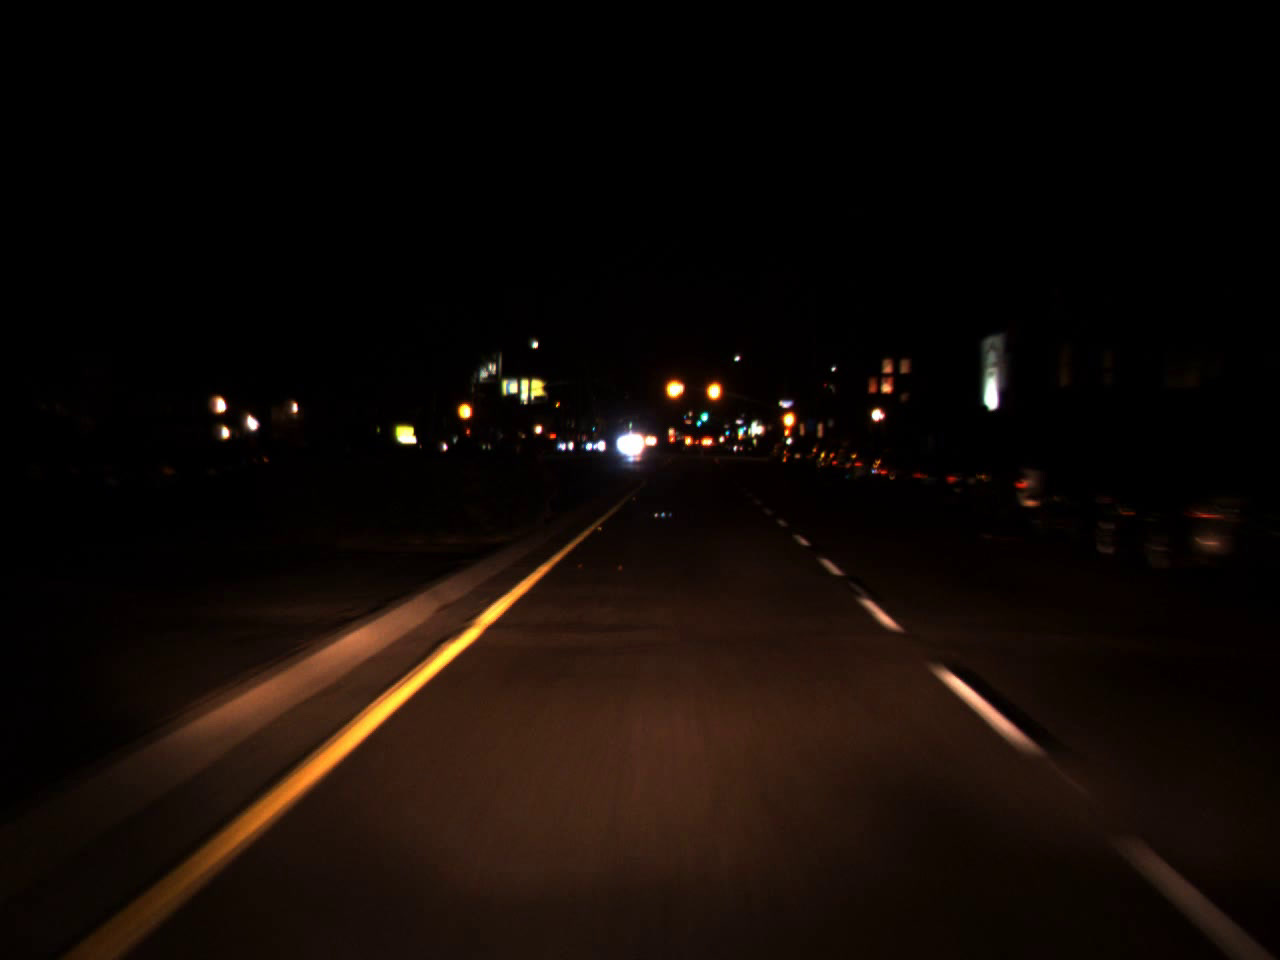go: (697, 402, 709, 423), (736, 419, 746, 434), (694, 412, 701, 427)
warning: (663, 367, 687, 409), (703, 369, 724, 411), (454, 394, 475, 424), (782, 403, 798, 433)
